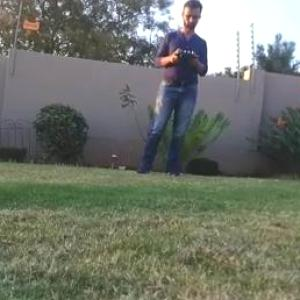follow: (129, 0, 212, 182)
